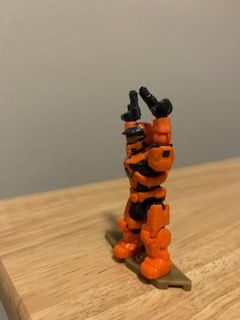pistol: (117, 87, 143, 120)
spartan: (113, 118, 175, 281)
up: (118, 99, 175, 190)
